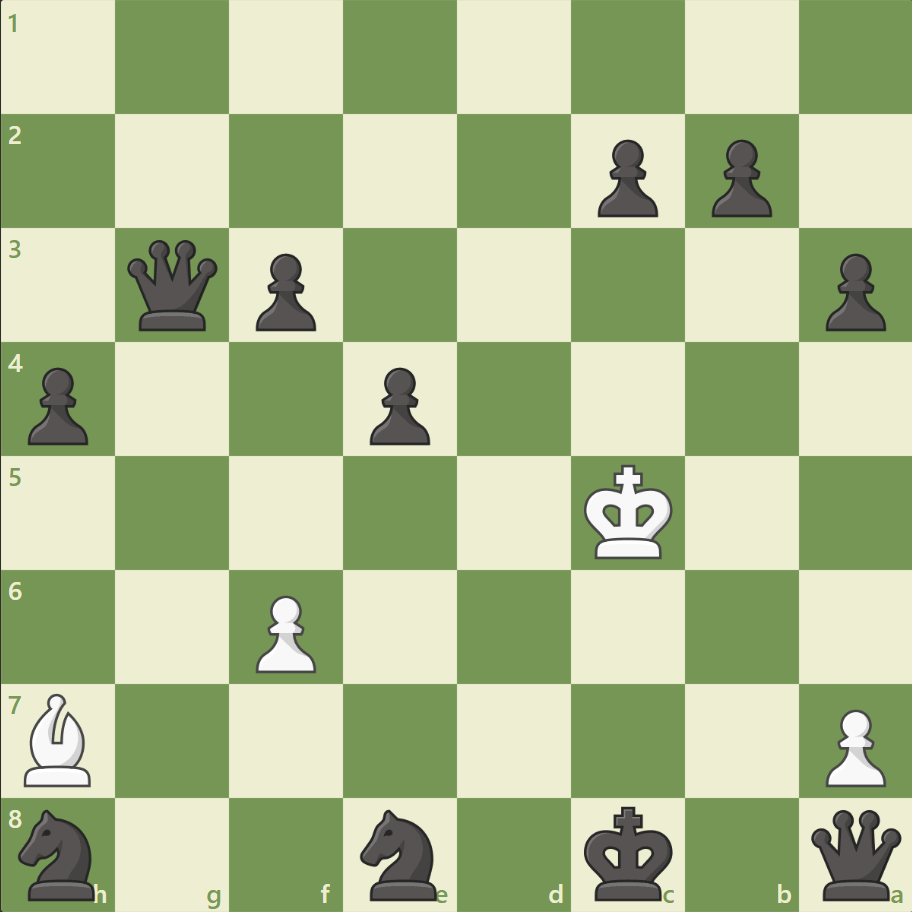B: (17, 687, 101, 790)
K: (579, 458, 679, 566)
P: (247, 586, 322, 677), (815, 700, 889, 791)
k: (579, 798, 679, 906)
n: (351, 802, 449, 904), (11, 802, 108, 904)
p: (20, 359, 95, 450), (247, 246, 322, 337), (701, 132, 776, 223), (361, 359, 435, 450), (815, 246, 889, 337), (588, 132, 662, 223)
q: (805, 804, 904, 903), (124, 236, 223, 335)
